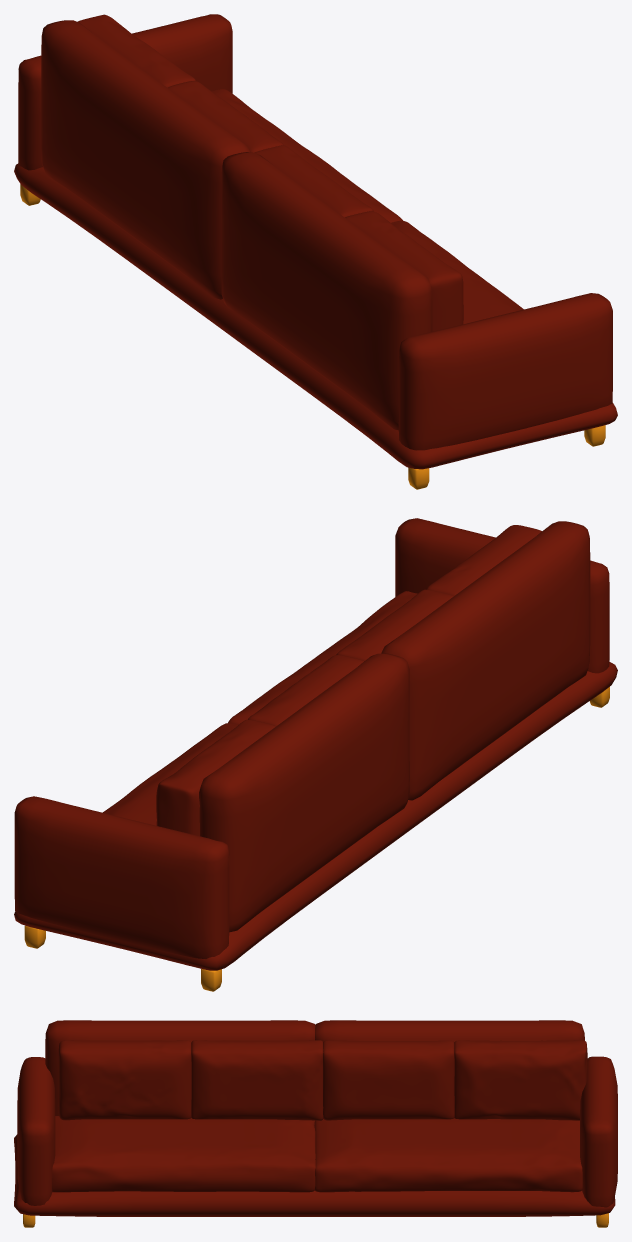
File: Couch mid poly.glb
The picture shows the model from 3 angles, top to bottom: view 1: azimuth 30°, elevation 25°; view 2: azimuth 150°, elevation 25°; view 3: azimuth 270°, elevation 25°; orthographic projection. The views are drawn at different scales.
Visible parts, largest first — view 1: Retopo_Cube.012, Retopo_Cube.011, Retopo_Cube.008, Retopo_Cube.010, Retopo_Cube.009, Retopo_Cube.019, Retopo_Cube.003, Retopo_Cube.013, Retopo_Cube.015, Retopo_Cube.017, Retopo_Cube; view 2: Retopo_Cube.011, Retopo_Cube.012, Retopo_Cube.009, Retopo_Cube.010, Retopo_Cube.008, Retopo_Cube.013, Retopo_Cube.015, Retopo_Cube.017, Retopo_Cube.019, Retopo_Cube, Retopo_Cube.003; view 3: Retopo_Cube, Retopo_Cube.003, Retopo_Cube.010, Retopo_Cube.019, Retopo_Cube.017, Retopo_Cube.015, Retopo_Cube.013, Retopo_Cube.012, Retopo_Cube.011, Retopo_Cube.008, Retopo_Cube.009.
Part boxes in pixels (x1,y1,x2,y2): Retopo_Cube.012: (221, 152, 432, 430); Retopo_Cube.011: (41, 20, 249, 299); Retopo_Cube.008: (398, 293, 612, 450); Retopo_Cube.010: (14, 163, 617, 469); Retopo_Cube.009: (18, 14, 232, 170); Retopo_Cube.019: (345, 211, 463, 331); Retopo_Cube.003: (391, 220, 523, 324); Retopo_Cube.013: (77, 14, 195, 87); Retopo_Cube.015: (168, 81, 283, 152); Retopo_Cube.017: (254, 145, 373, 217); Retopo_Cube: (211, 89, 402, 222); Retopo_Cube.011: (199, 653, 409, 932); Retopo_Cube.012: (381, 521, 590, 800); Retopo_Cube.009: (14, 796, 229, 958); Retopo_Cube.010: (14, 661, 617, 970); Retopo_Cube.008: (395, 518, 609, 673); Retopo_Cube.013: (156, 719, 275, 836); Retopo_Cube.015: (248, 655, 364, 726); Retopo_Cube.017: (336, 589, 453, 660); Retopo_Cube.019: (426, 525, 541, 595); Retopo_Cube: (103, 723, 238, 825); Retopo_Cube.003: (228, 591, 417, 724); Retopo_Cube: (314, 1118, 582, 1192); Retopo_Cube.003: (52, 1116, 315, 1192); Retopo_Cube.010: (14, 1134, 615, 1216); Retopo_Cube.019: (58, 1040, 191, 1120); Retopo_Cube.017: (191, 1040, 323, 1120); Retopo_Cube.015: (323, 1040, 454, 1120); Retopo_Cube.013: (454, 1040, 587, 1120); Retopo_Cube.012: (45, 1020, 315, 1115); Retopo_Cube.011: (315, 1020, 584, 1042); Retopo_Cube.008: (17, 1057, 55, 1205); Retopo_Cube.009: (580, 1056, 617, 1207).
Bounding box in the file's own units: 1.38 × 1.21 × 4.61.
